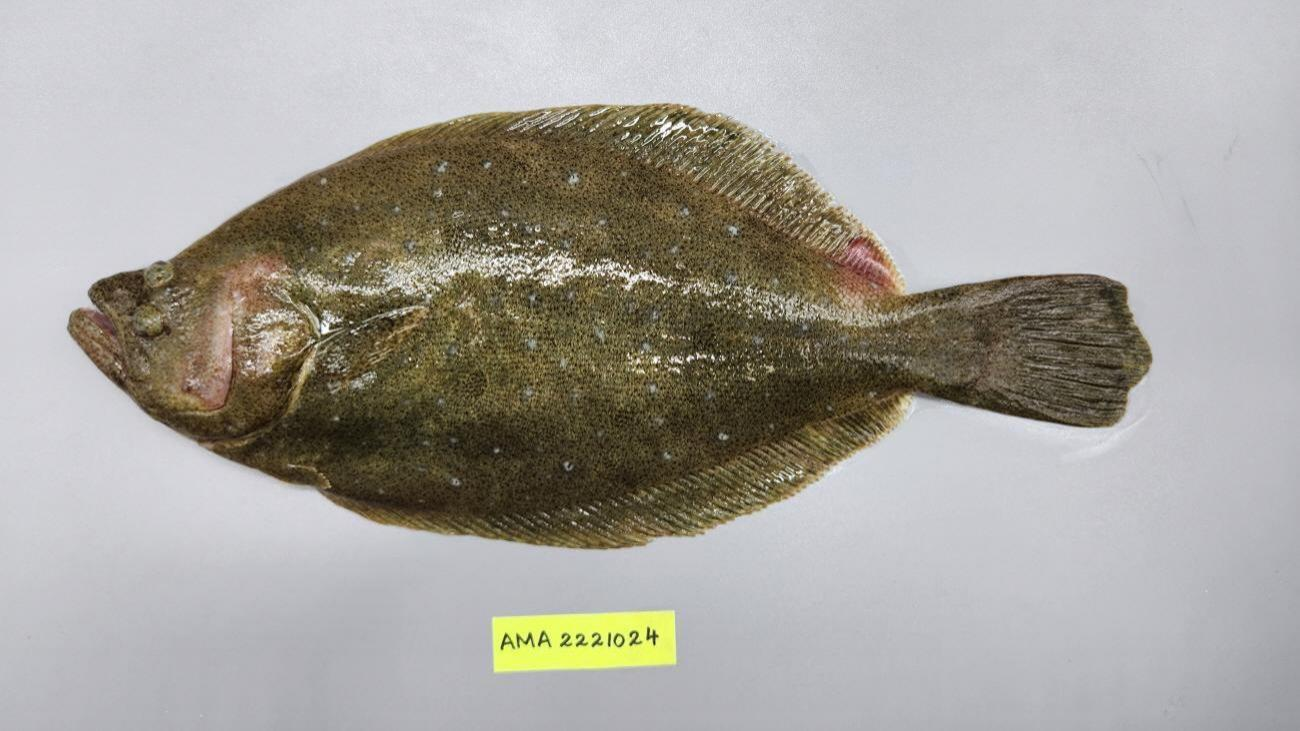MAFAH: (728, 391, 911, 510)
MAFCH: (985, 276, 1135, 323)
MAFDH: (812, 205, 905, 295)
MAOUY: (61, 104, 1152, 549)
